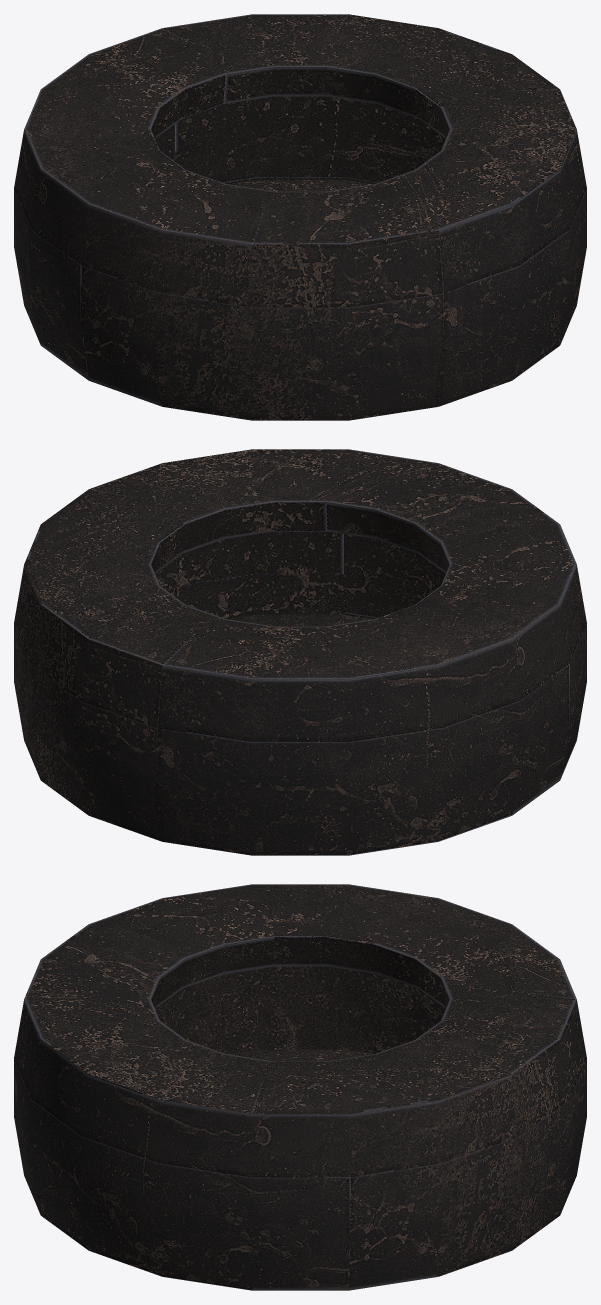
Rendered from Tekerlek.fbx.
3 renders of one model, top to bottom at view 1: azimuth 30°, elevation 25°; view 2: azimuth 150°, elevation 25°; view 3: azimuth 270°, elevation 25°, orthographic.
Parts seen in each view (by area): view 1: Cylinder; view 2: Cylinder; view 3: Cylinder.
Part boxes in pixels (x1=…): Cylinder: x1=14, y1=14, x2=586, y2=420; Cylinder: x1=14, y1=449, x2=586, y2=855; Cylinder: x1=14, y1=884, x2=586, y2=1290.
Size of the model in its own units: 145 by 54.4 by 147.
